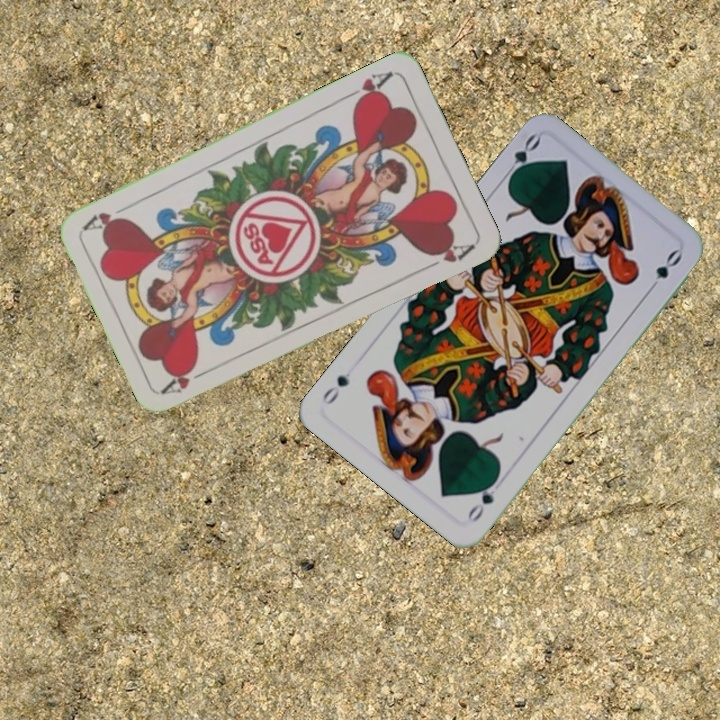GO: (499, 130, 543, 185), (463, 473, 501, 526)
HA: (340, 67, 396, 109), (159, 360, 215, 397)
